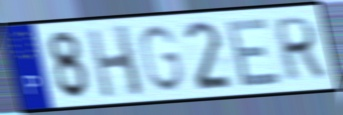2: (183, 20, 237, 93)
8: (46, 29, 92, 101)
E: (224, 15, 284, 90)
G: (137, 23, 186, 94)
H: (84, 22, 147, 100)
R: (273, 14, 327, 85)
